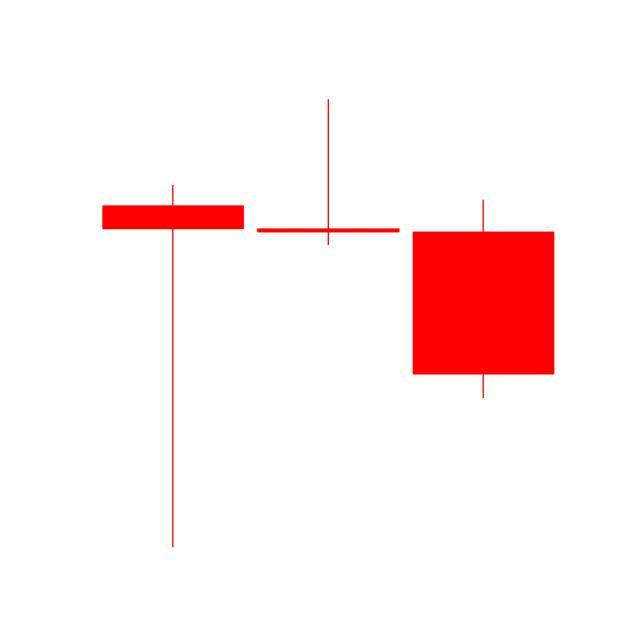Gravestone Doji: (250, 98, 407, 248)
